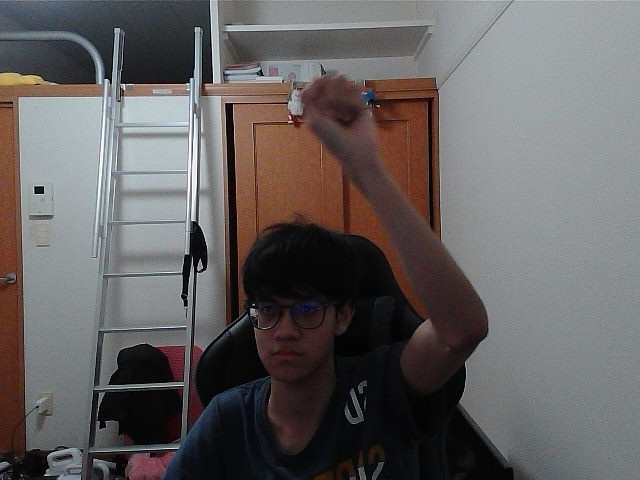closed_palm: (312, 86, 356, 143)
